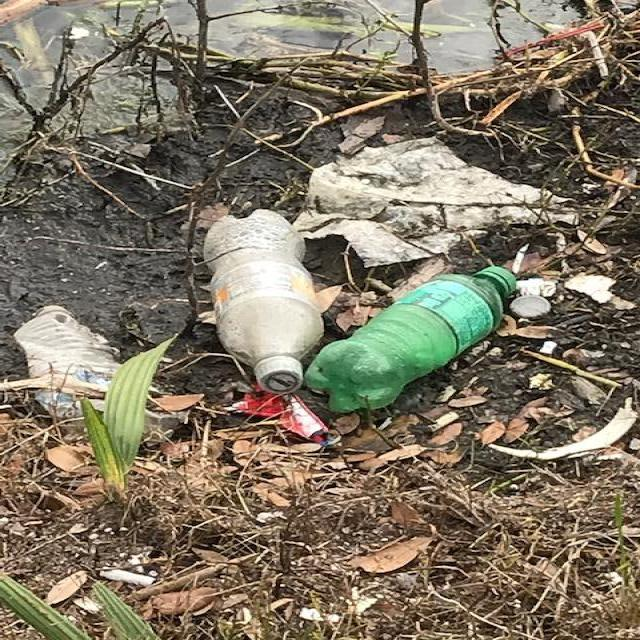litter: (308, 137, 584, 270), (313, 260, 523, 413), (184, 212, 331, 386), (16, 302, 173, 445)
